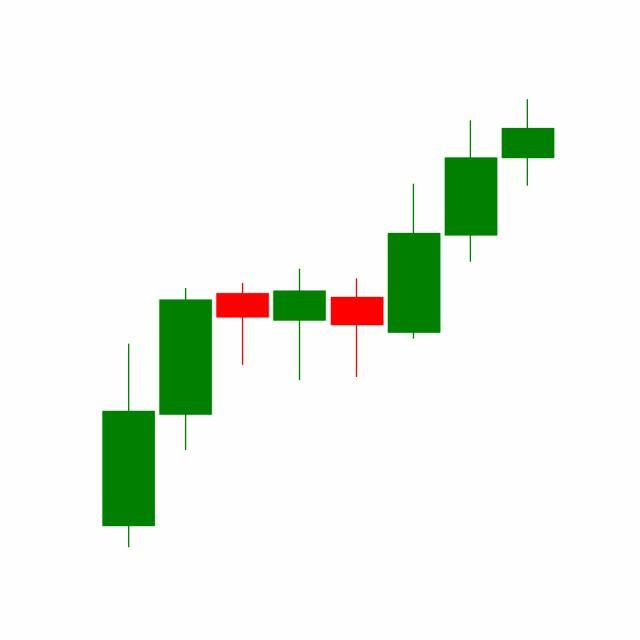Three Outside Up-Down: (328, 118, 500, 381)
